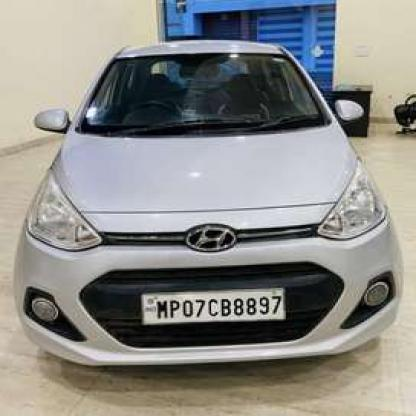license_plate: (139, 285, 283, 323)
